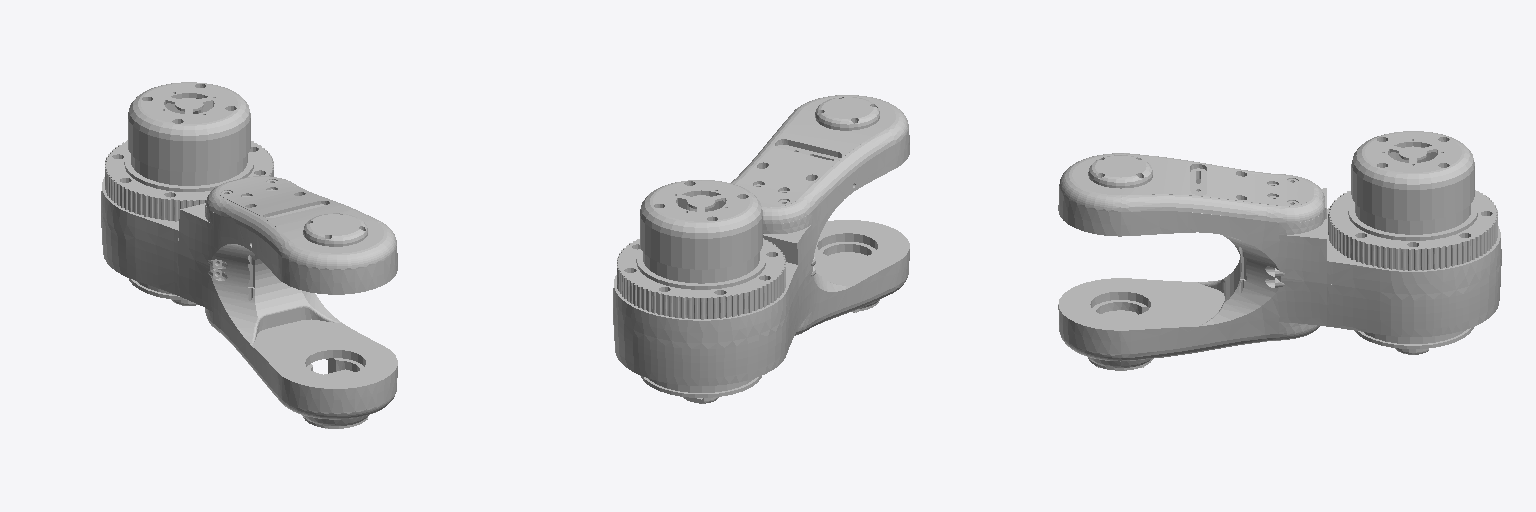
3 views of the same model, side by side, from view 1: azimuth 30°, elevation 25°; view 2: azimuth 150°, elevation 25°; view 3: azimuth 270°, elevation 25° (orthographic).
Visible parts, largest first — view 1: Y_Elbow.001; view 2: Y_Elbow.001; view 3: Y_Elbow.001.
Part boxes in pixels (bbox=[...]): Y_Elbow.001: bbox=[101, 82, 397, 428]; Y_Elbow.001: bbox=[613, 95, 909, 403]; Y_Elbow.001: bbox=[1058, 131, 1501, 370].
Bounding box in the file's own units: 13.59 × 17.58 × 34.1.